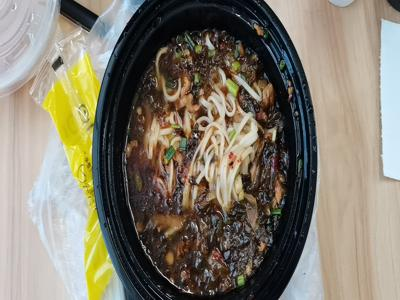nrm: (129, 39, 294, 259)
